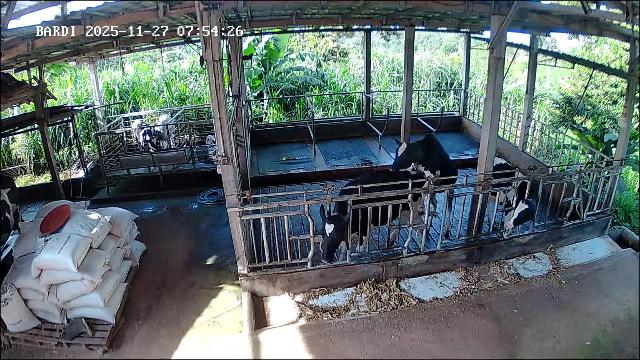mounting: (392, 133, 457, 226)
